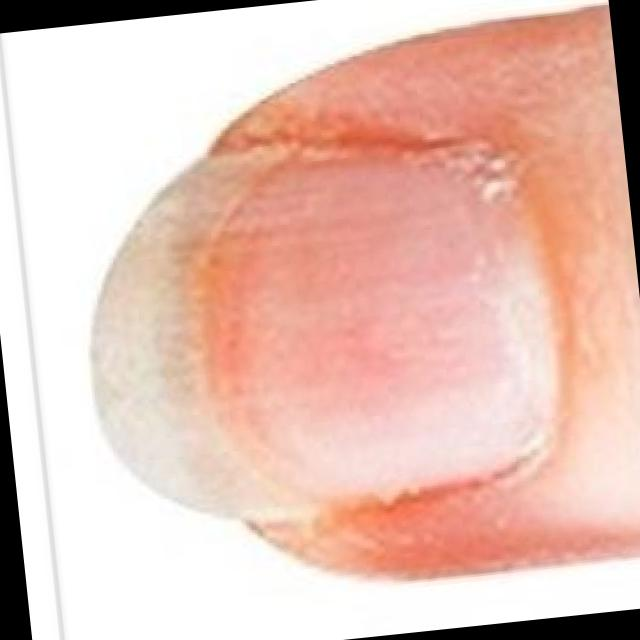Nail: (92, 144, 561, 524)
